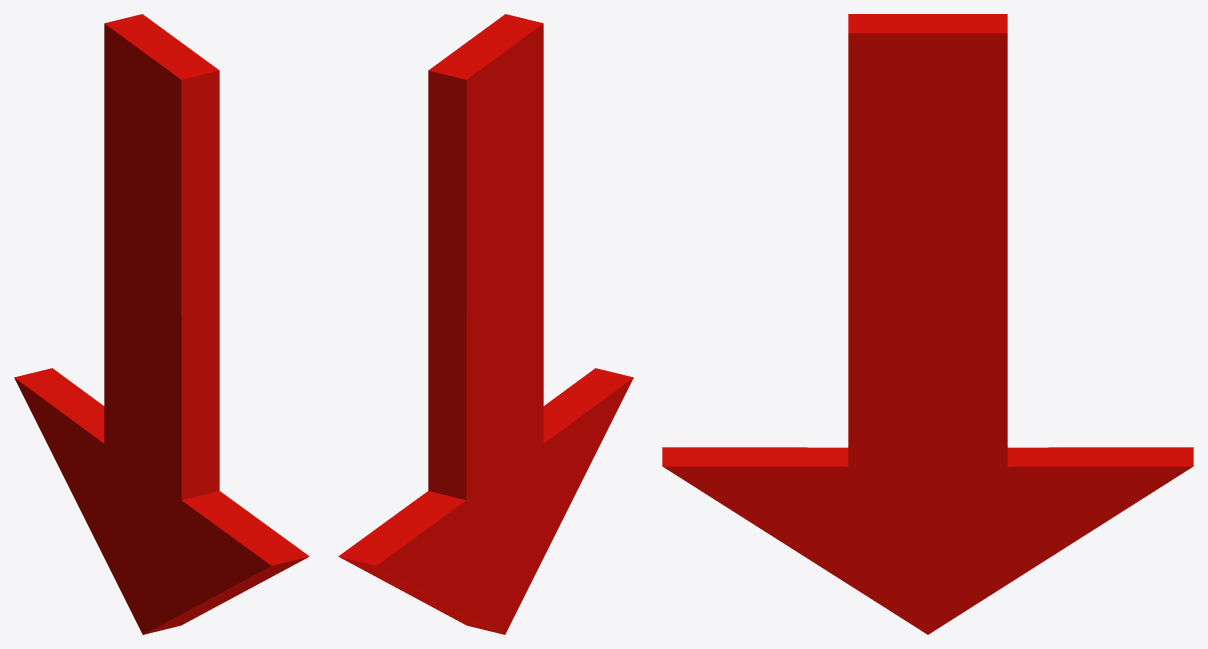
File: Arrow.fbx
The picture shows the model from 3 angles, left to right: view 1: azimuth 30°, elevation 25°; view 2: azimuth 150°, elevation 25°; view 3: azimuth 270°, elevation 25°; orthographic projection. The views are drawn at different scales.
Visible parts, largest first — view 1: Cube; view 2: Cube; view 3: Cube.
Part boxes in pixels (x1=…): Cube: x1=14, y1=14, x2=309, y2=634; Cube: x1=338, y1=14, x2=633, y2=634; Cube: x1=662, y1=14, x2=1193, y2=634.
Bounding box in the file's own units: 17.17 × 250 × 200.
